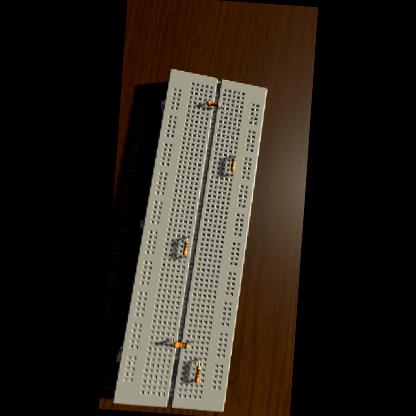breadboard: (112, 67, 268, 413)
resistor: (194, 364, 200, 382), (173, 342, 188, 349), (206, 100, 219, 108), (182, 242, 188, 256), (230, 158, 236, 171)
wire: (188, 341, 191, 347), (198, 358, 200, 366), (170, 339, 172, 345), (186, 236, 188, 240), (220, 105, 222, 108), (204, 102, 206, 105), (231, 172, 232, 176), (233, 156, 234, 158)
